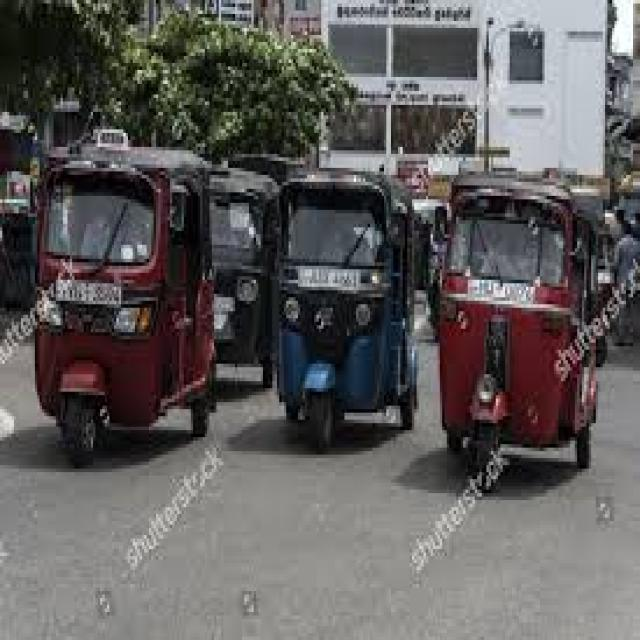person: (614, 224, 635, 346)
three wheeler: (35, 143, 214, 462), (440, 175, 607, 469), (277, 175, 414, 451), (209, 168, 277, 381)
